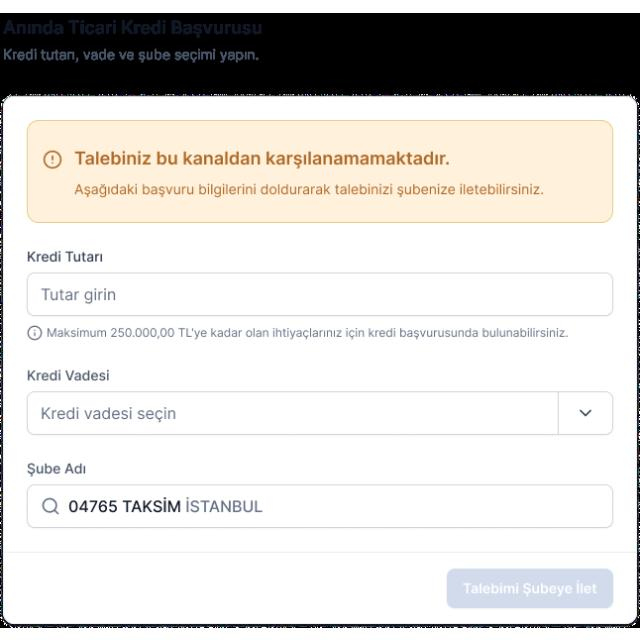QLabel: (68, 180, 546, 200), (74, 149, 452, 169), (47, 326, 573, 340), (2, 18, 272, 34), (2, 48, 266, 62), (461, 576, 605, 600), (21, 246, 110, 264), (25, 366, 113, 384), (23, 462, 89, 476)
VAlert: (26, 118, 614, 222)
VBtn: (447, 567, 613, 607)
VCard: (2, 93, 640, 627)
VCombobox: (26, 391, 614, 435)
VDivider: (4, 550, 638, 552)
VIcon: (42, 148, 62, 168), (26, 324, 44, 340)
VTextField: (25, 482, 613, 528), (27, 271, 615, 315)
